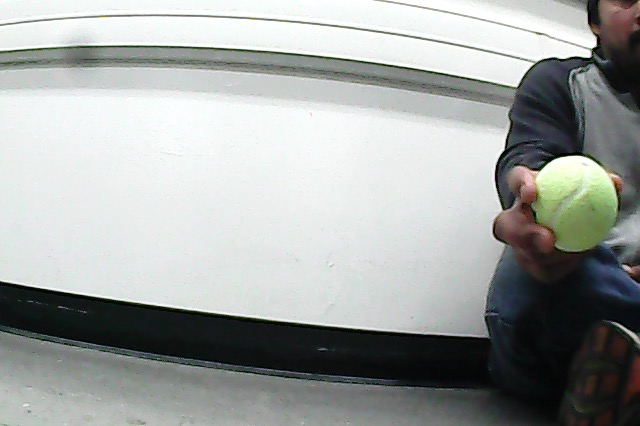ball: (526, 152, 620, 256)
